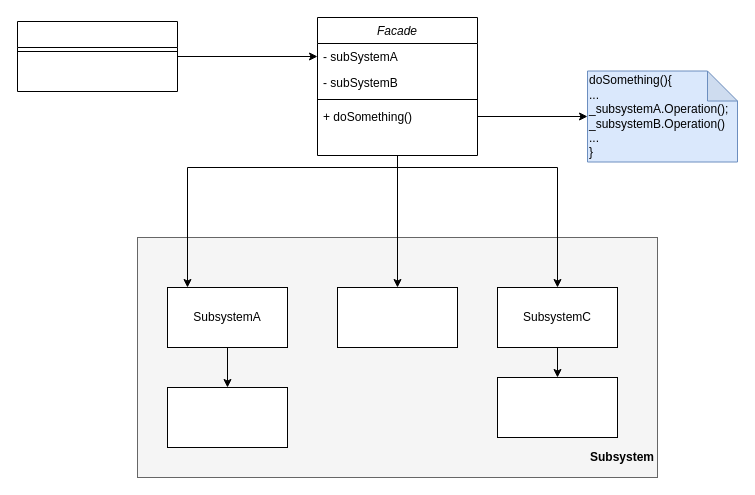
This 755x495 diagram has some shape labels left out. The shapes that lost their labels are listed below. From the top down, each one's centre as x and y in pixels, then its label:
(97,56): Client
(397,317): SubsystemB
